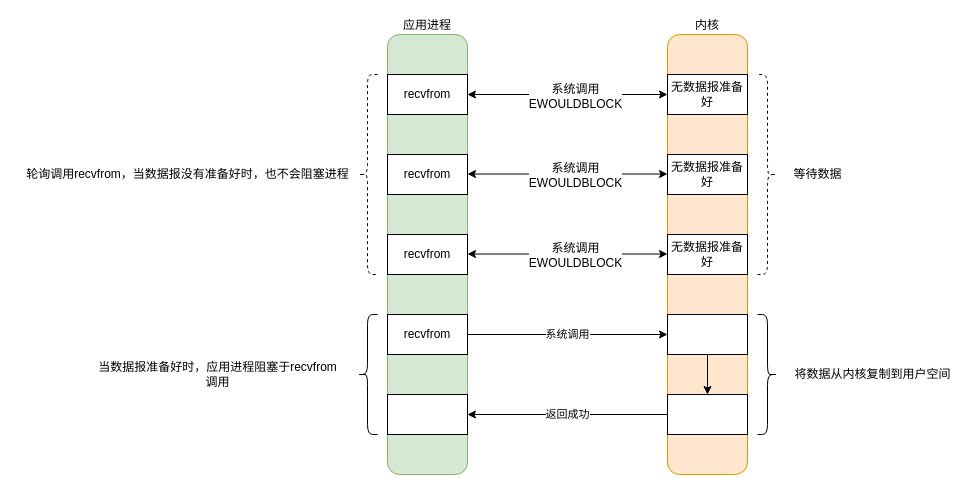
Some shapes in this 974 by 492 pixel diagram are drawn without their labels. The shapes that lost their labels are listed below. From the top down, each one's centre as x and y in pixels, then its label:
the point at 707,334: 数据报准备好/复制数据报
the point at 427,414: 处理数据报
the point at 707,414: 复制完成
